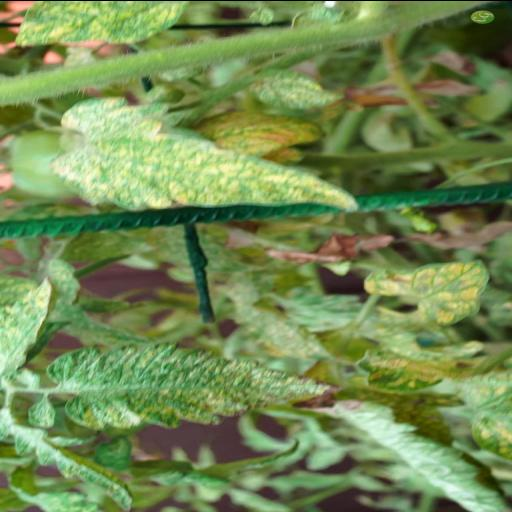disease_tomato: (50, 94, 360, 214), (42, 341, 344, 432), (360, 256, 498, 327), (12, 0, 190, 48), (184, 110, 326, 156), (346, 343, 460, 395), (0, 274, 58, 376), (246, 68, 346, 106)
